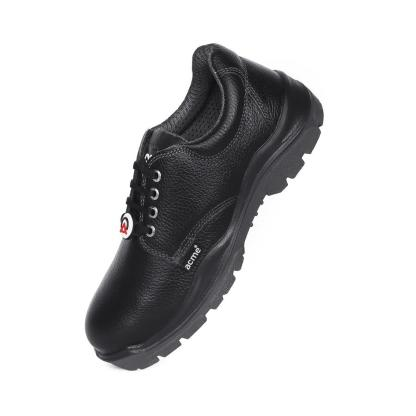bota: (80, 39, 327, 375)
